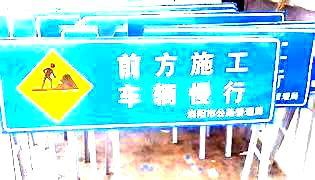sign: (1, 42, 273, 129)
